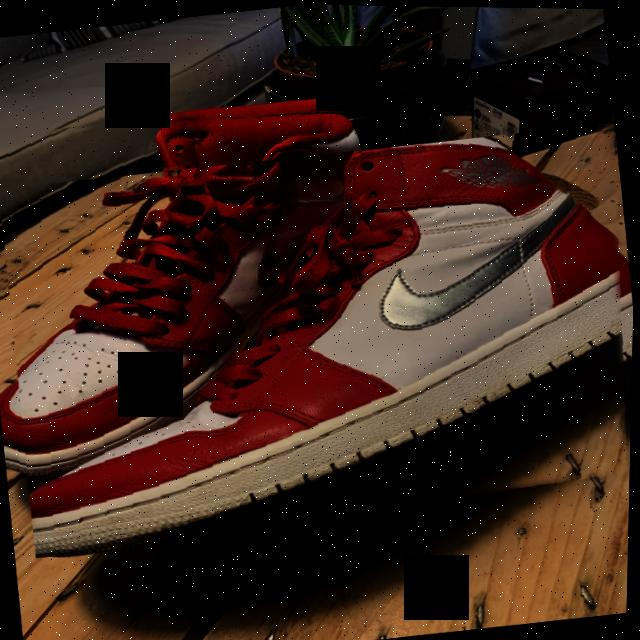shoe: (0, 113, 638, 565), (0, 85, 407, 484)
